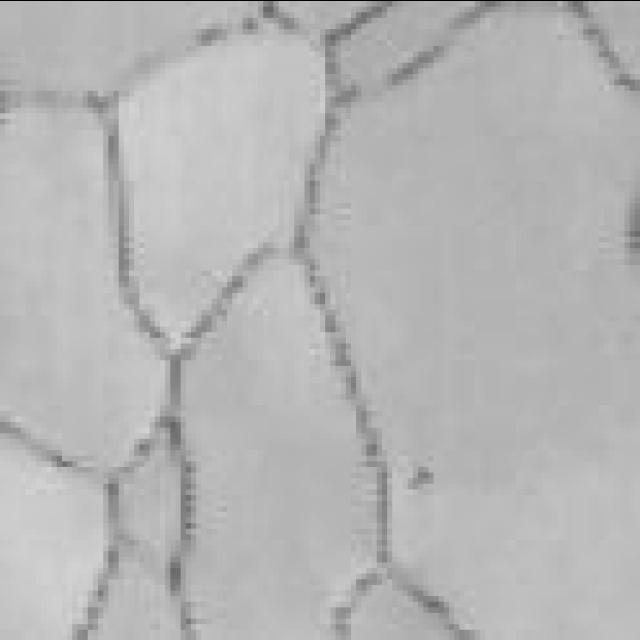good_void: (408, 466, 434, 483)
